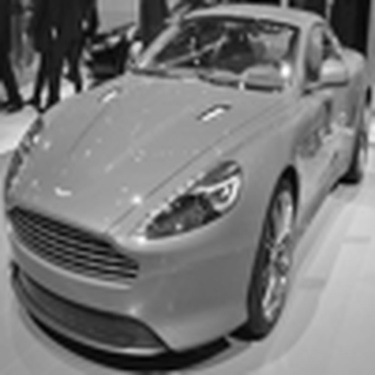car: (4, 20, 362, 343)
